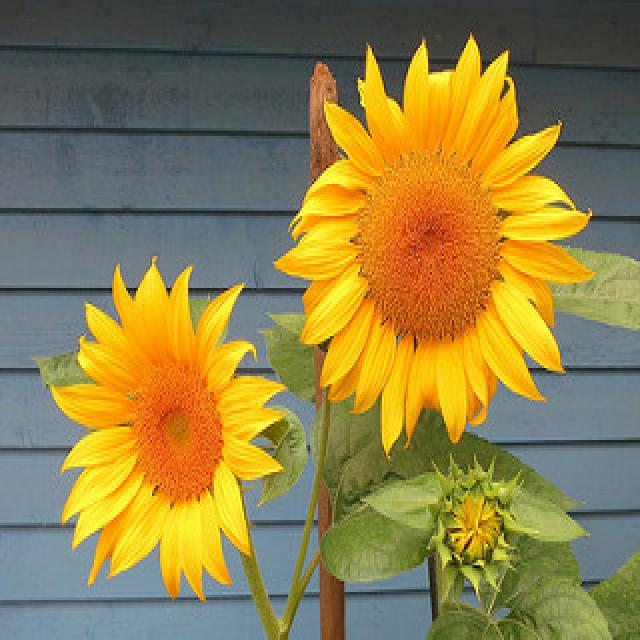sunflower: (283, 41, 586, 428), (45, 255, 288, 596)
